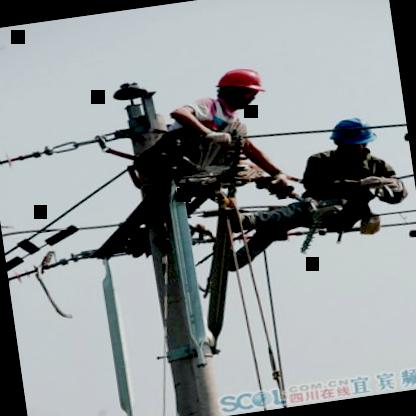helmet: (206, 59, 270, 116), (324, 111, 380, 155)
